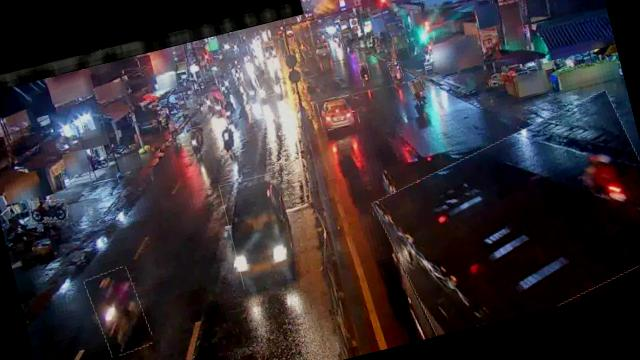Bike: (85, 266, 153, 359), (583, 160, 634, 233), (27, 195, 70, 226), (180, 125, 212, 165), (216, 124, 239, 154), (409, 77, 430, 108), (202, 93, 220, 119), (220, 98, 238, 124), (388, 61, 405, 86), (358, 62, 374, 88), (210, 93, 223, 116)
Car: (218, 174, 298, 290), (316, 94, 360, 132)
Truck: (370, 97, 640, 341)
